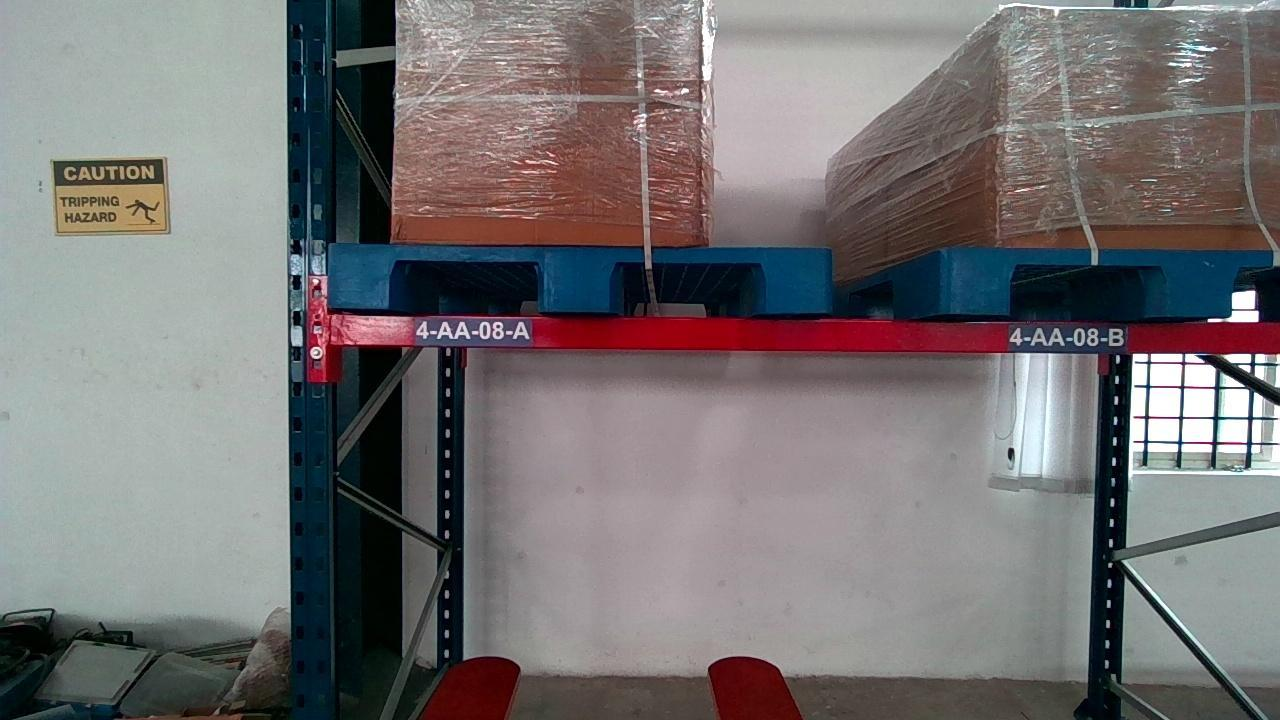h_rack: (318, 315, 1280, 351)
small_pallet: (326, 240, 826, 312), (954, 246, 1280, 312)
